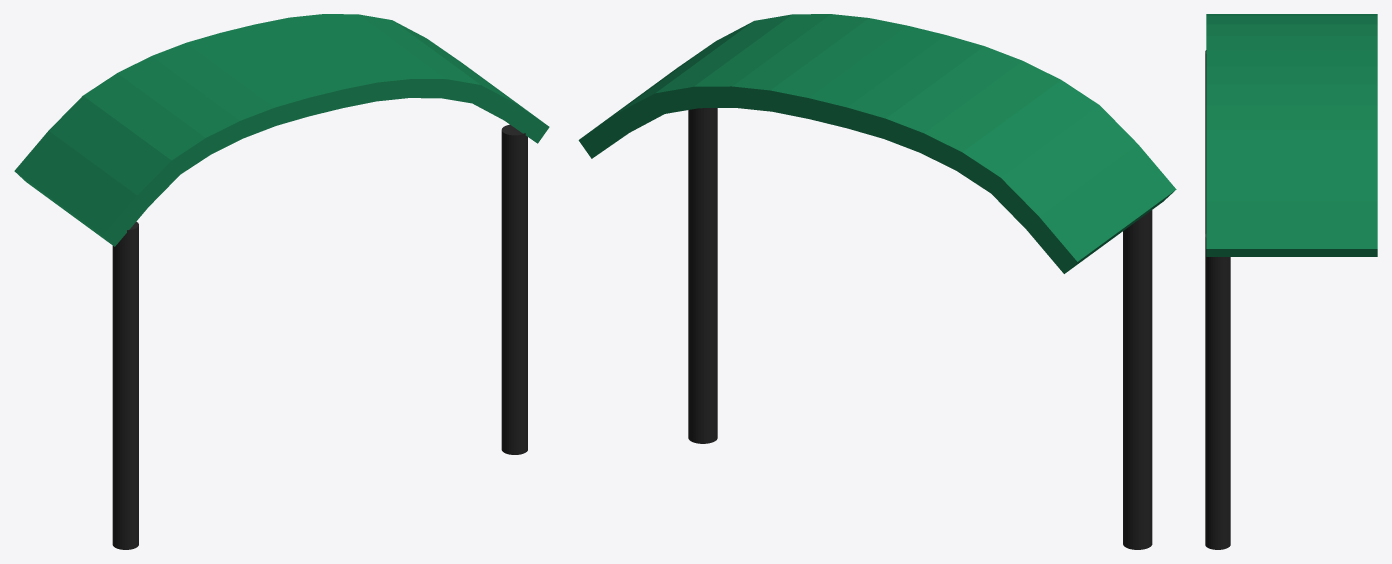
File: rainhide.obj
3 views of the same model, side by side, from view 1: azimuth 30°, elevation 25°; view 2: azimuth 150°, elevation 25°; view 3: azimuth 270°, elevation 25° (orthographic). The views are drawn at different scales.
Parts seen in each view (by area): view 1: rainhide_Plane_rainhide, rainhide_Plane_tube; view 2: rainhide_Plane_rainhide, rainhide_Plane_tube; view 3: rainhide_Plane_rainhide, rainhide_Plane_tube.
Part boxes in pixels (x1=…): rainhide_Plane_rainhide: x1=14, y1=14, x2=549, y2=246; rainhide_Plane_tube: x1=112, y1=124, x2=527, y2=549; rainhide_Plane_rainhide: x1=578, y1=14, x2=1176, y2=273; rainhide_Plane_tube: x1=688, y1=108, x2=1152, y2=549; rainhide_Plane_rainhide: x1=1206, y1=14, x2=1377, y2=256; rainhide_Plane_tube: x1=1205, y1=50, x2=1230, y2=549.
Bounding box in the file's own units: 2 × 1.74 × 0.6923.
